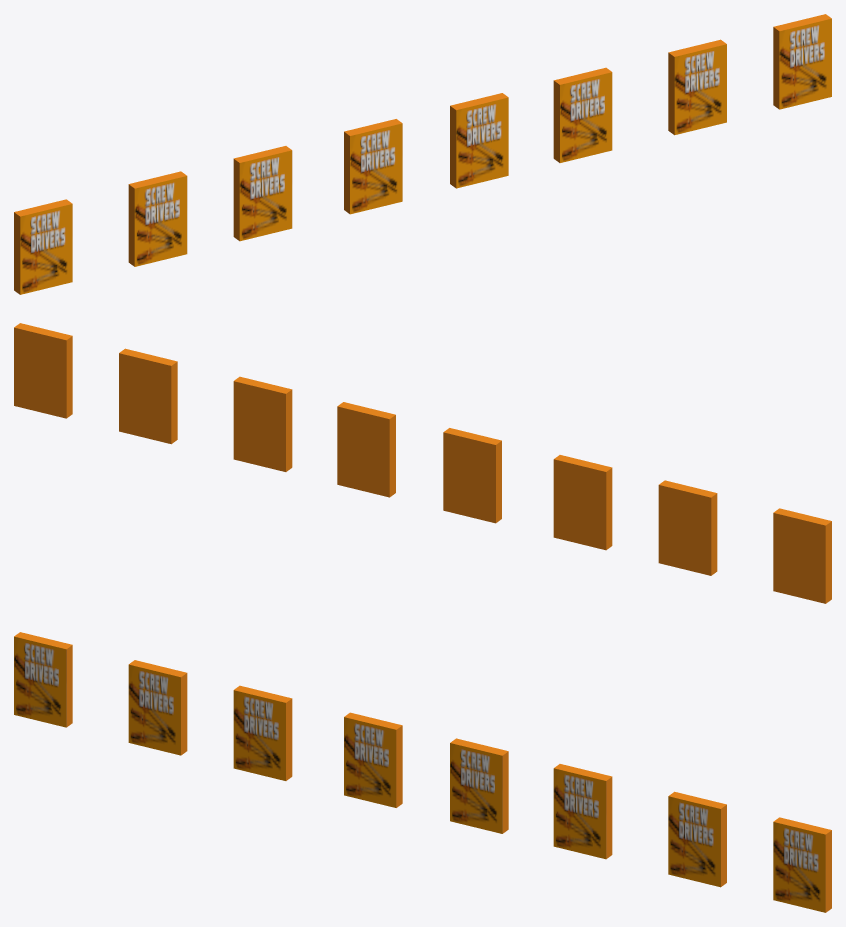
File: Bundle_Screw_Boxes.fbx
3 views of the same model, one above another, from view 1: azimuth 30°, elevation 25°; view 2: azimuth 150°, elevation 25°; view 3: azimuth 330°, elevation 25° (orthographic).
Parts seen in each view (by area): view 1: Bundle_Screwdriver_Box_1; view 2: Bundle_Screwdriver_Box_1; view 3: Bundle_Screwdriver_Box_1.
Part boxes in pixels (x1,y1,x2,y2): Bundle_Screwdriver_Box_1: (14,14,831,294); Bundle_Screwdriver_Box_1: (14,323,831,603); Bundle_Screwdriver_Box_1: (14,632,831,912).
Bounding box in the file's own units: 406 × 37.47 × 5.37.
